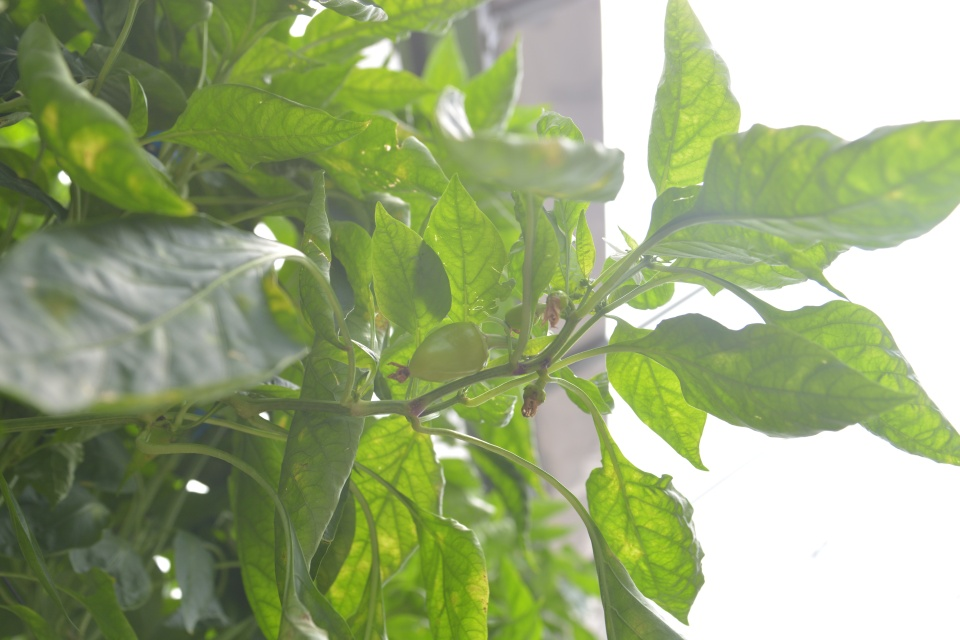immature: (385, 317, 492, 384)
